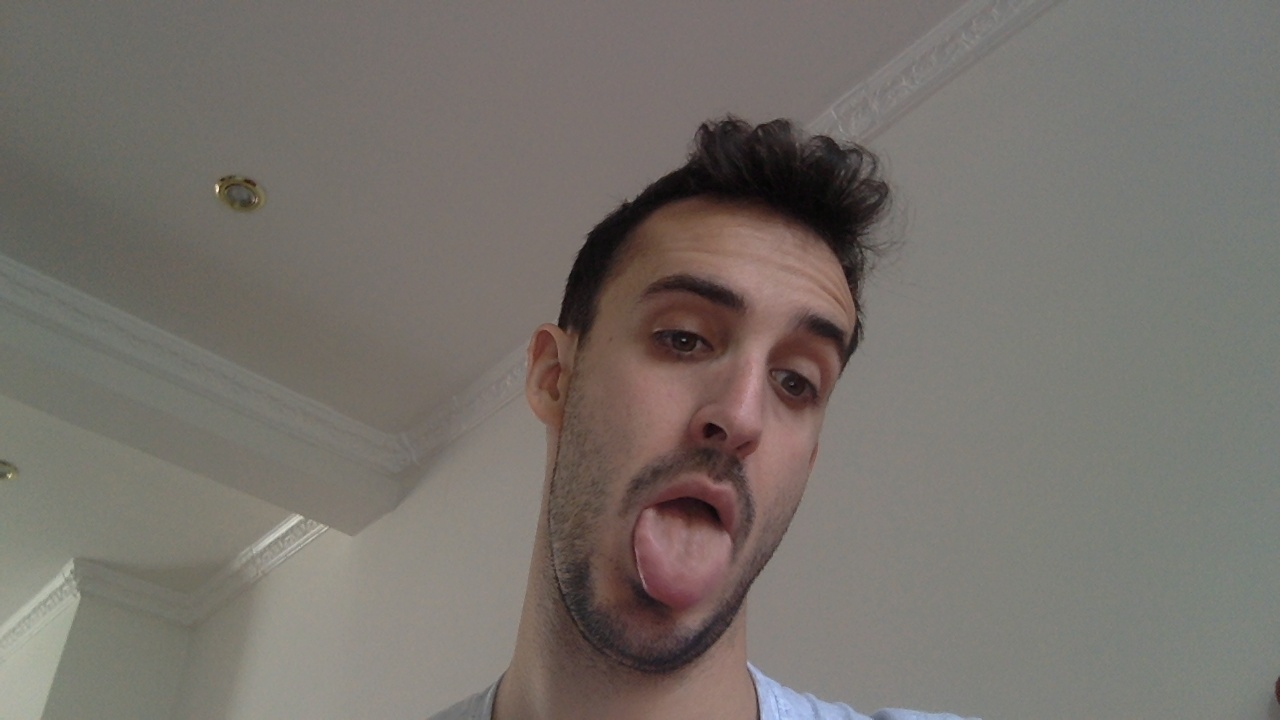tongue: (629, 464, 745, 619)
